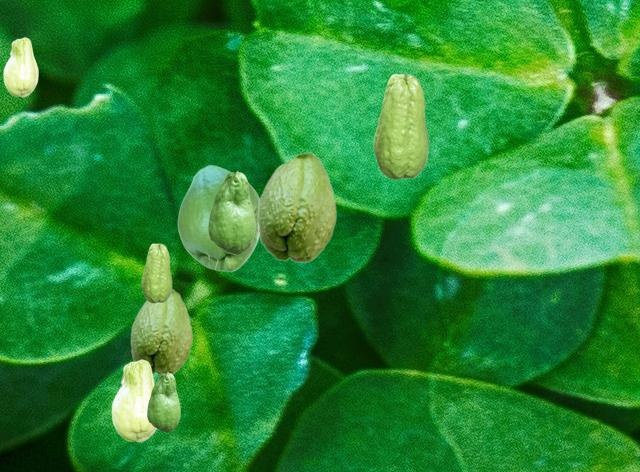sayote: (257, 151, 336, 262), (177, 165, 259, 271), (373, 73, 428, 179), (130, 288, 192, 375), (208, 171, 254, 253), (111, 359, 156, 441), (3, 37, 37, 96), (147, 372, 179, 431), (141, 243, 171, 302)
